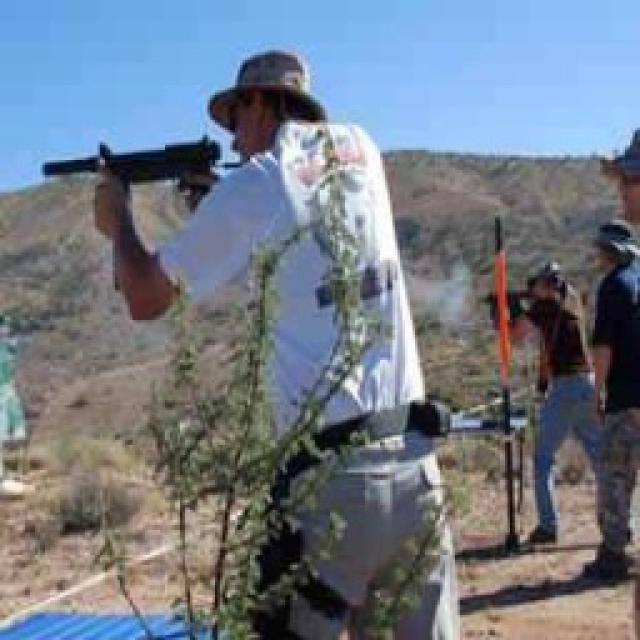long weapon: (28, 131, 241, 225)
